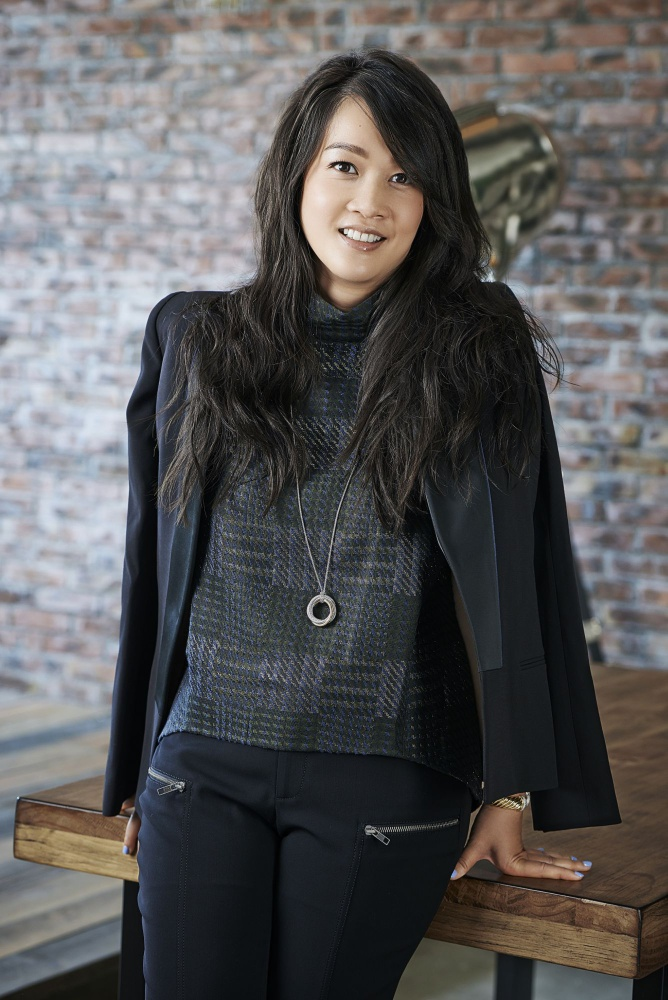female: (272, 31, 472, 311)
